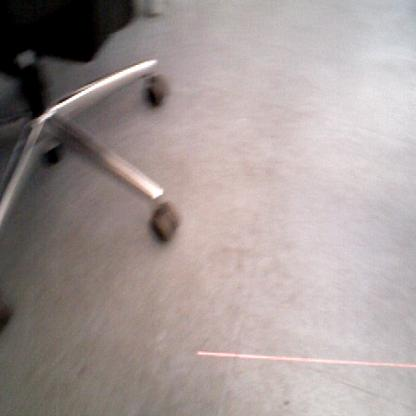mark: (76, 363, 88, 378), (281, 398, 292, 406)
